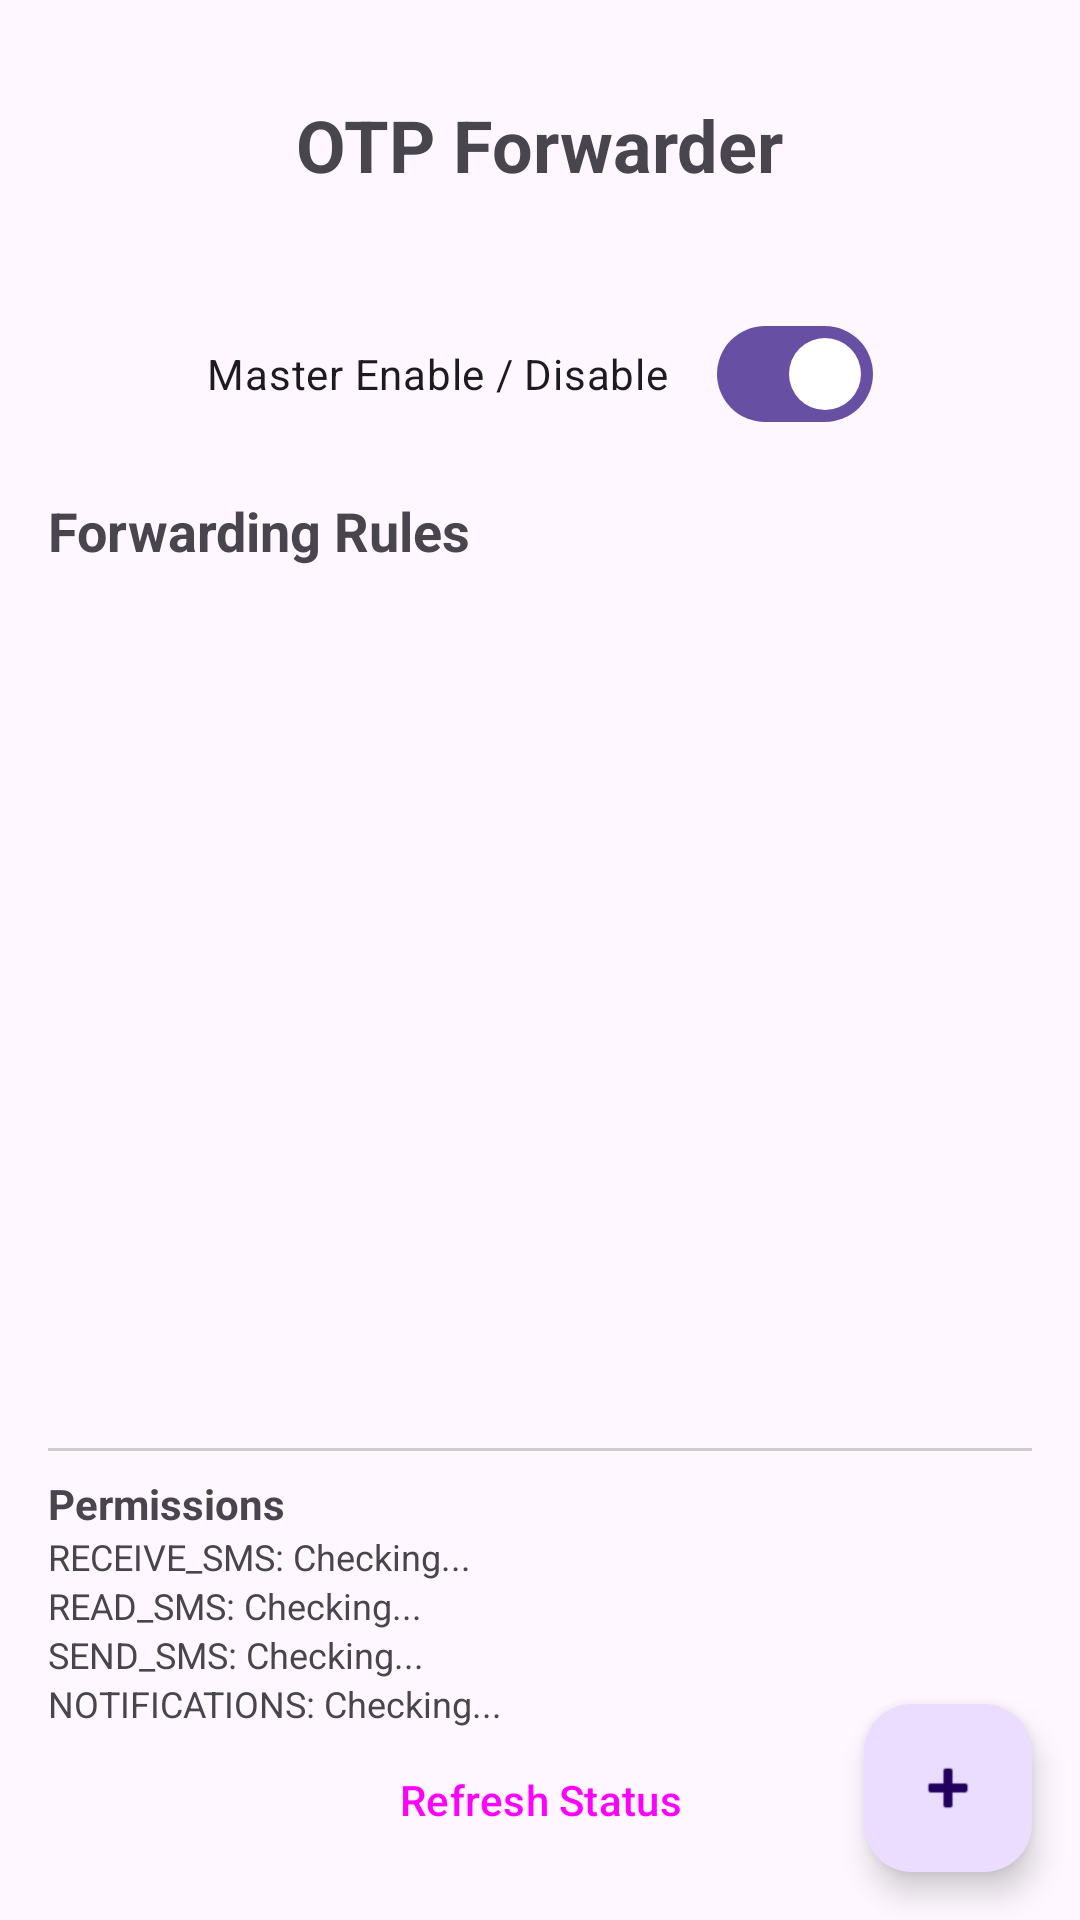

Named icons in this screenshot (1080*1920) and their centers, (x=x, y=y):
Add Configuration: (x=948, y=1788)
